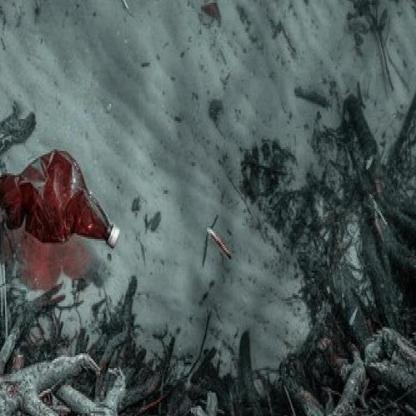plastic bottle: (2, 150, 121, 248)
